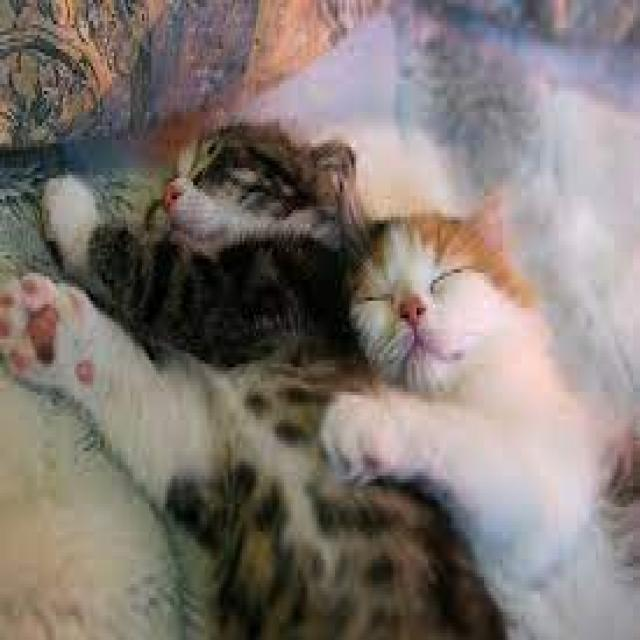Cat: (1, 114, 348, 640), (317, 187, 611, 581)
